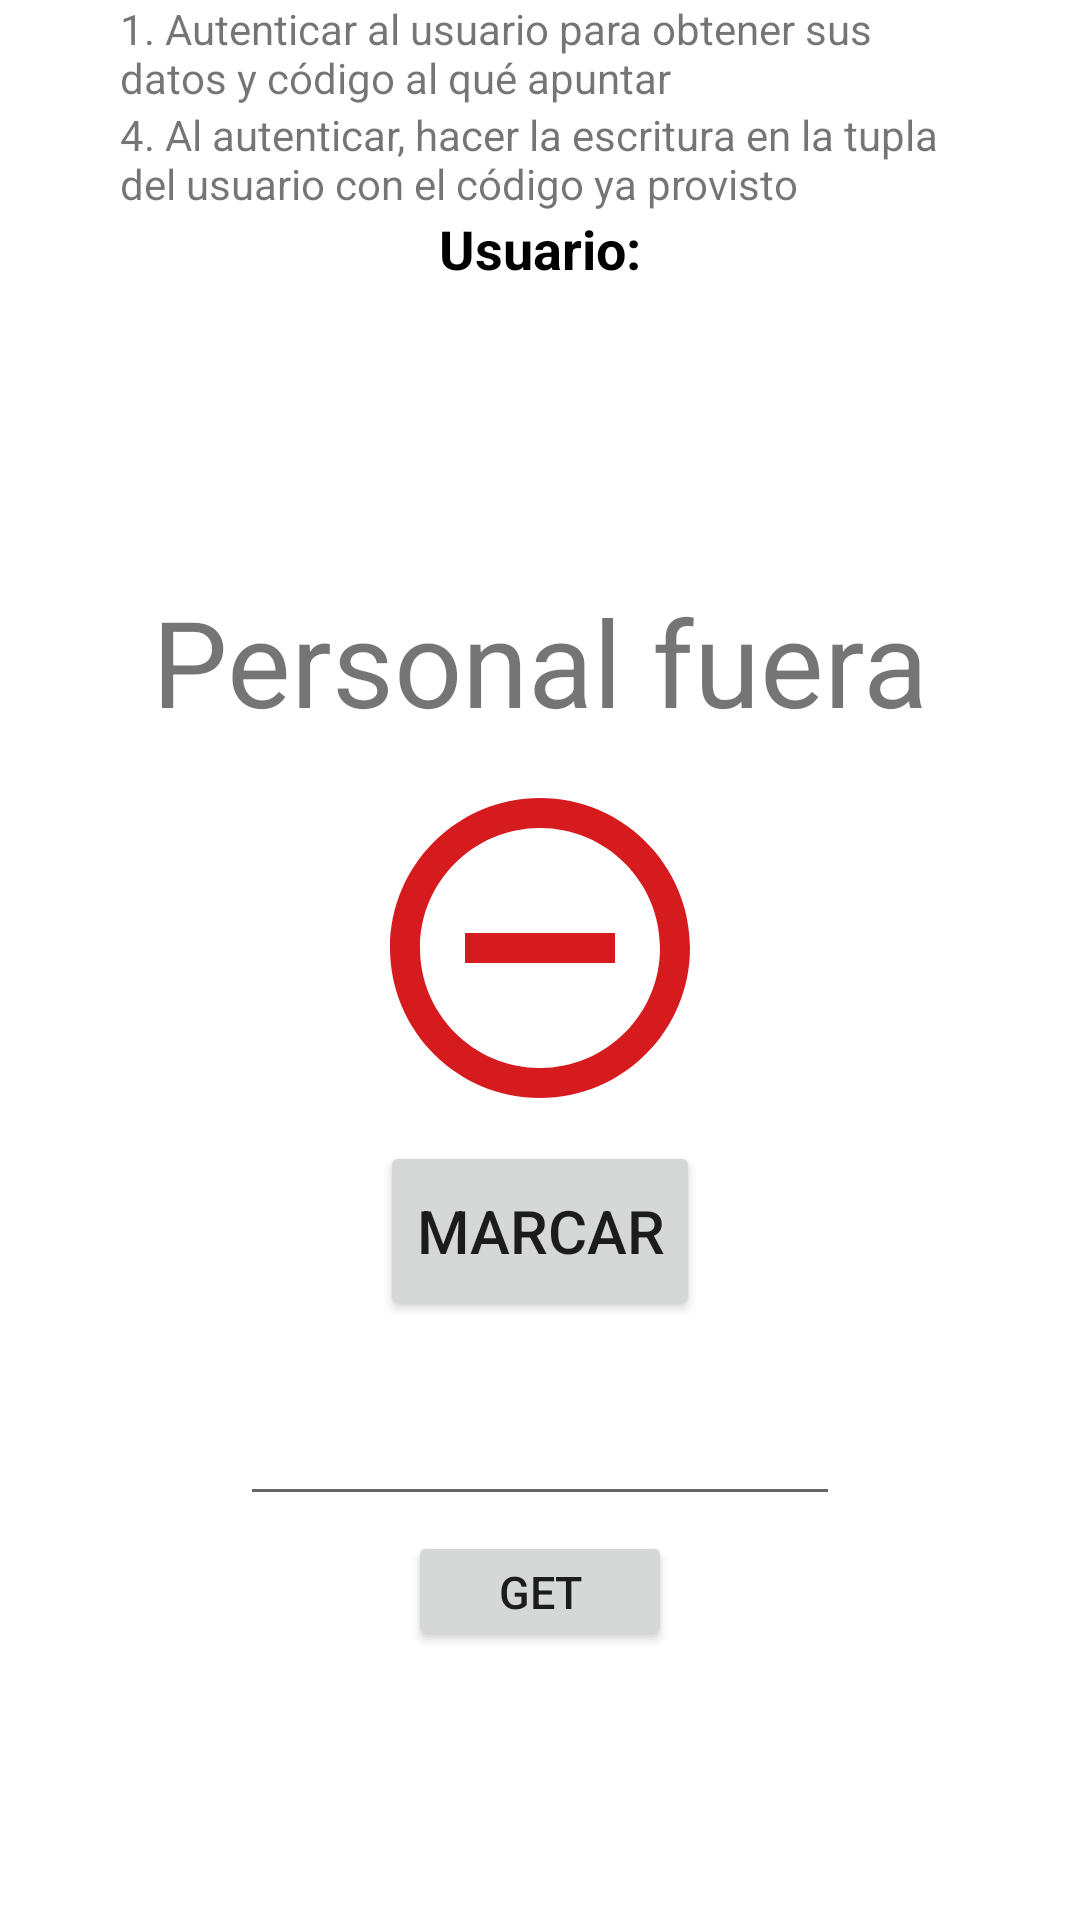

Named icons in this screenshot (1080*1920) and their bounding boxes, region(x1, y1, x2, y2):
remove circle: region(390, 798, 690, 1098)
